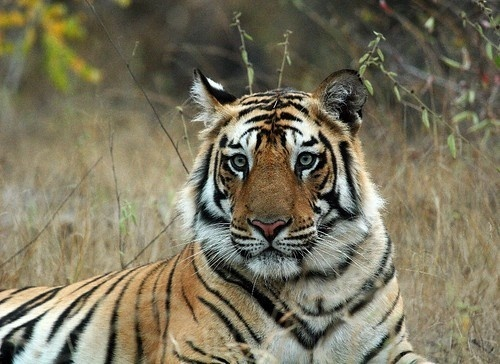tigre: (1, 63, 418, 363)
